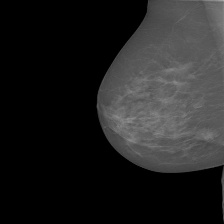Mass_1: (195, 79, 222, 97)
